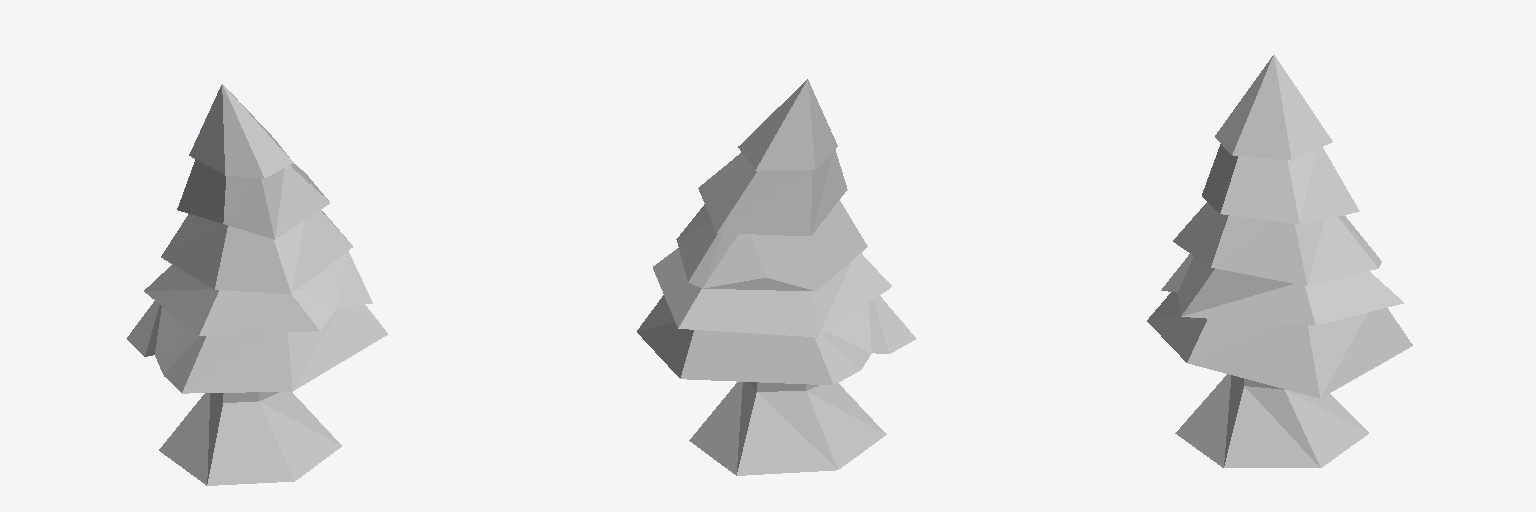
The model's file is PineTree_01.obj.
3 views of the same model, side by side, from view 1: azimuth 30°, elevation 25°; view 2: azimuth 150°, elevation 25°; view 3: azimuth 270°, elevation 25° (orthographic).
Visible parts, largest first — view 1: Cylinder; view 2: Cylinder; view 3: Cylinder.
Part boxes in pixels (left/top/right/bottom): Cylinder: left=127, top=84, right=387, bottom=485; Cylinder: left=637, top=79, right=915, bottom=475; Cylinder: left=1147, top=55, right=1412, bottom=467.
Size of the model in its own units: 6.01 by 9.47 by 6.23.